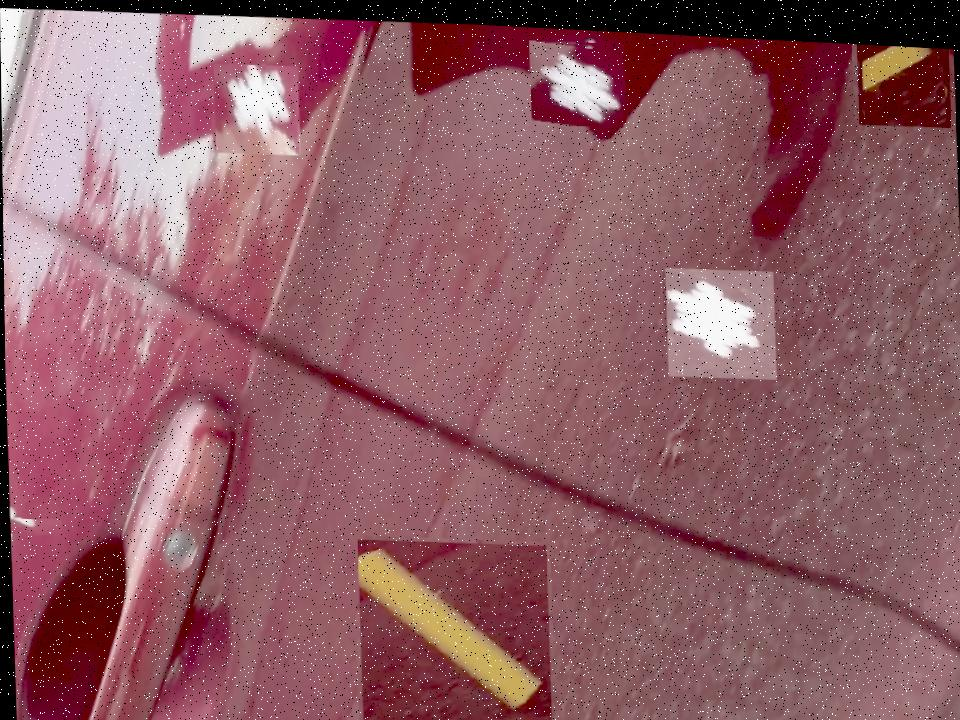dent: (665, 258, 776, 373), (533, 29, 624, 122), (214, 59, 302, 154), (8, 500, 44, 553)
scratch: (356, 532, 550, 720), (856, 35, 951, 119)
